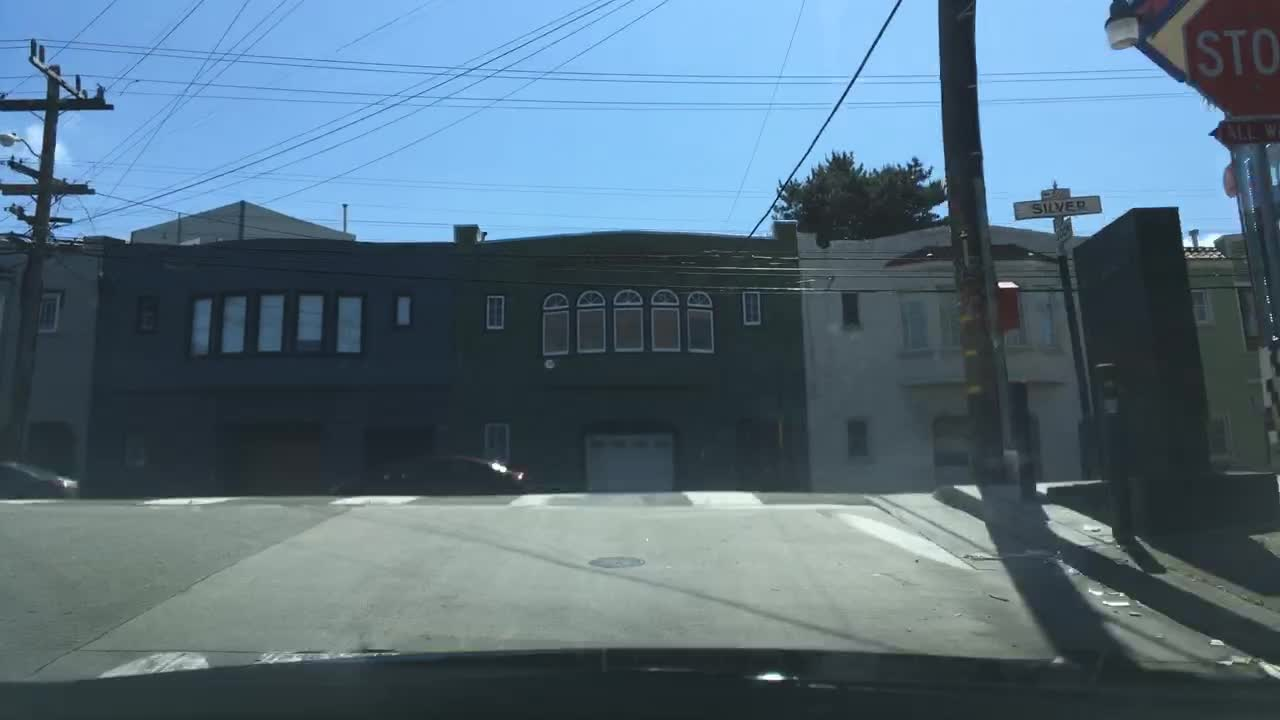car: (331, 450, 526, 495), (0, 457, 83, 501)
traffic sign: (1185, 0, 1278, 116), (1013, 194, 1101, 219), (1220, 120, 1279, 147)
